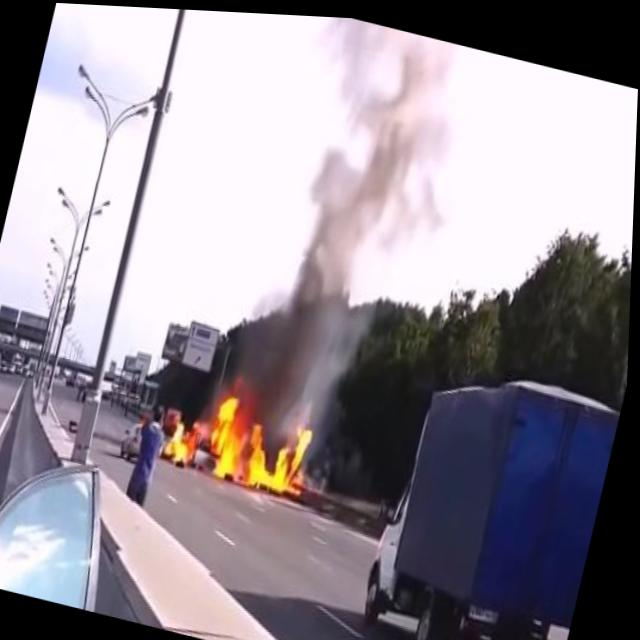fire: (201, 378, 327, 500), (161, 406, 203, 465)
